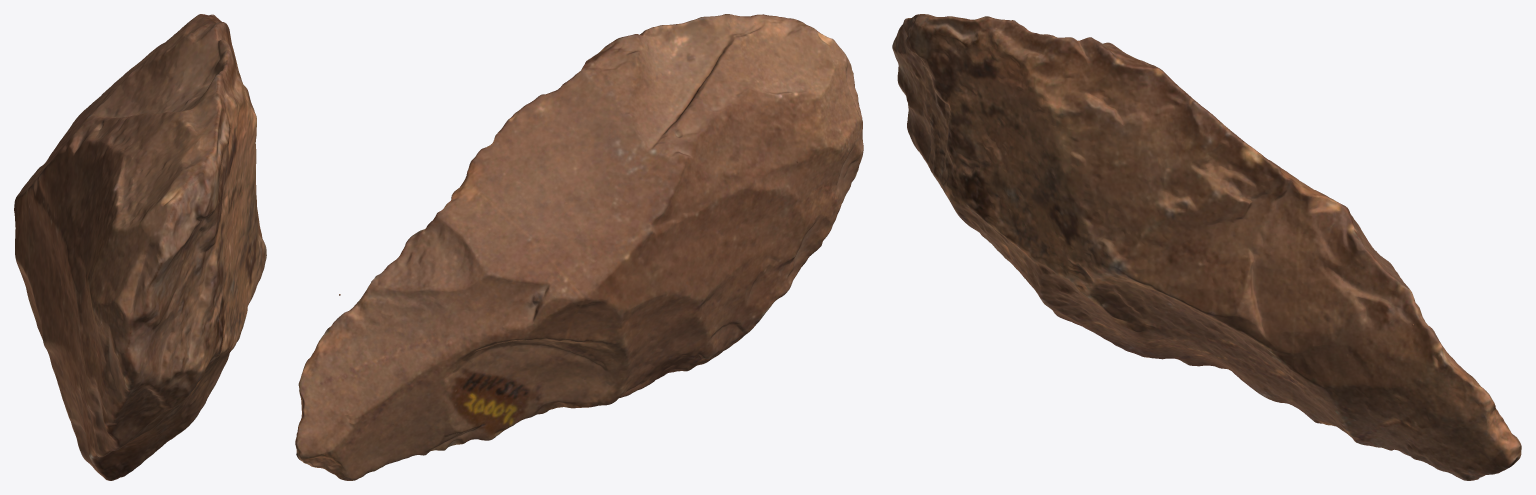
The picture shows the model from 3 angles, left to right: view 1: azimuth 30°, elevation 25°; view 2: azimuth 150°, elevation 25°; view 3: azimuth 270°, elevation 25°; orthographic projection. The views are drawn at different scales.
Visible parts, largest first — view 1: Node; view 2: Node; view 3: Node.
Boxes of the visible parts, x1=… form: Node: x1=14, y1=14, x2=266, y2=480; Node: x1=295, y1=14, x2=863, y2=480; Node: x1=892, y1=14, x2=1521, y2=480.
Size of the model in its own units: 93.11 by 102 by 152.
1 material, 1 textured.
